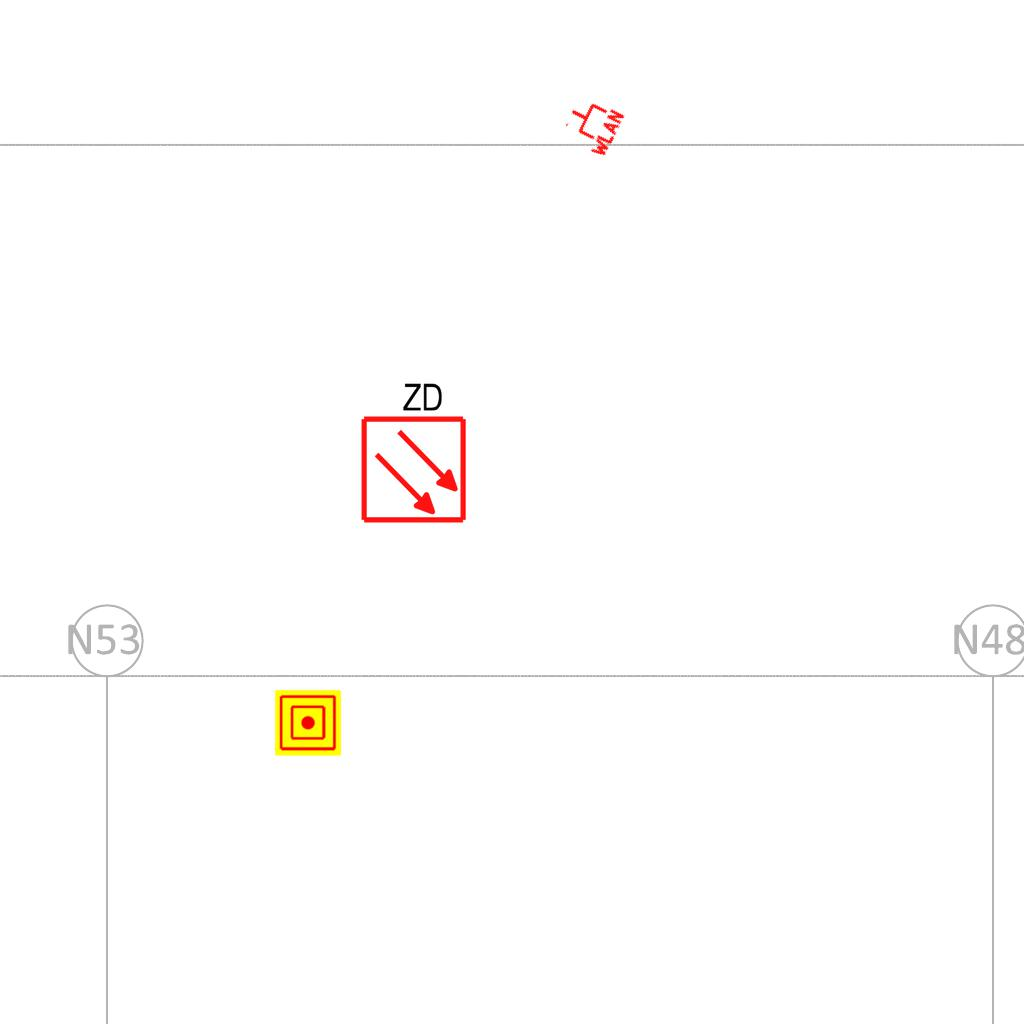NAM-Nichtautomatischer_Melder: (275, 690, 341, 756)
WLAN: (557, 91, 627, 161)
ZD_Melder_in_Zwischendecke_mit_Revisionsoeffnung_mind_40_x_40_cm: (355, 376, 469, 525)
